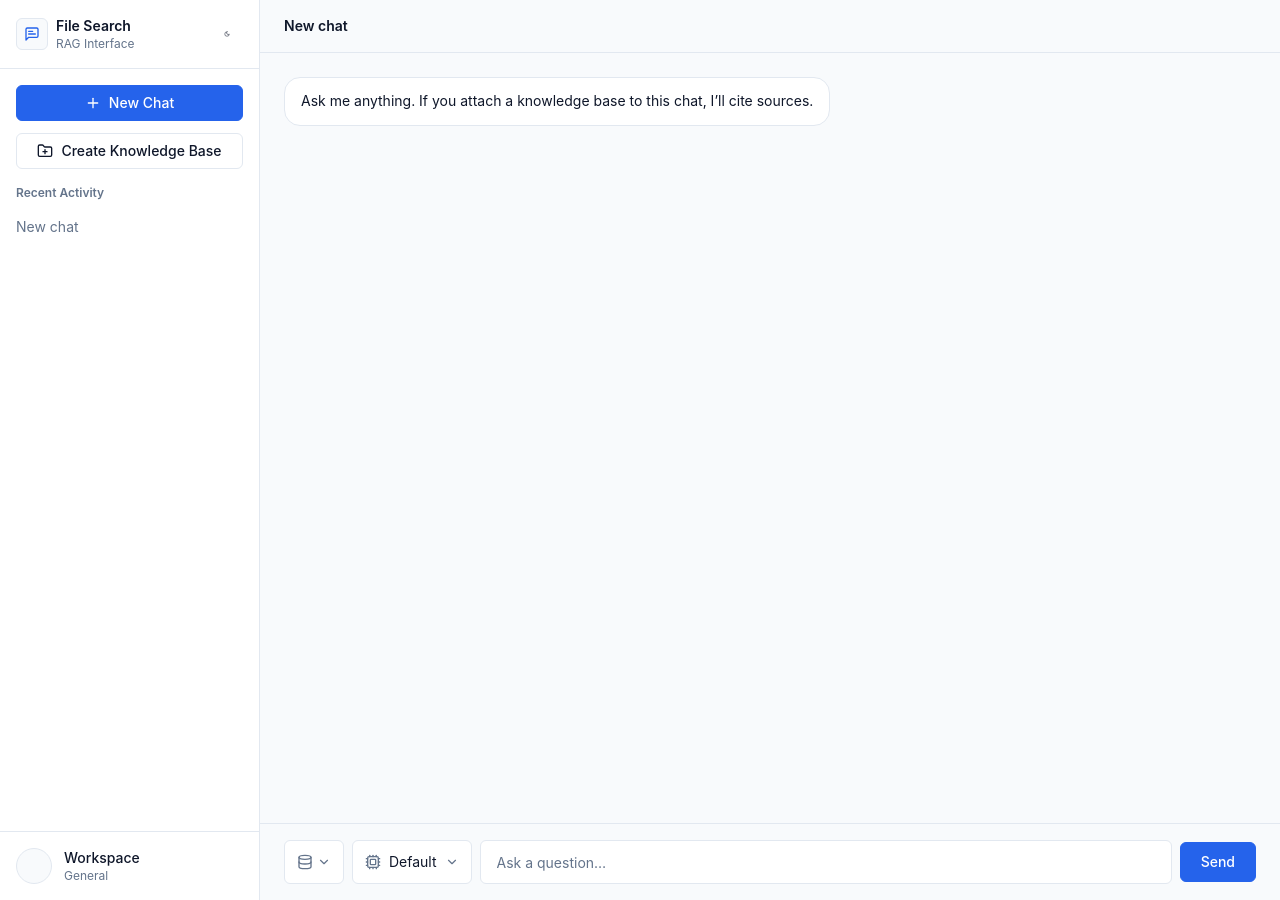
frontend component harness › submits chat history and renders a controlled SSE response
The width and height of the screenshot is (1280, 900).
Type "How does the fixture work?" into the field with placeholder "Ask a question…" at (826, 862), box [480, 840, 1172, 884]
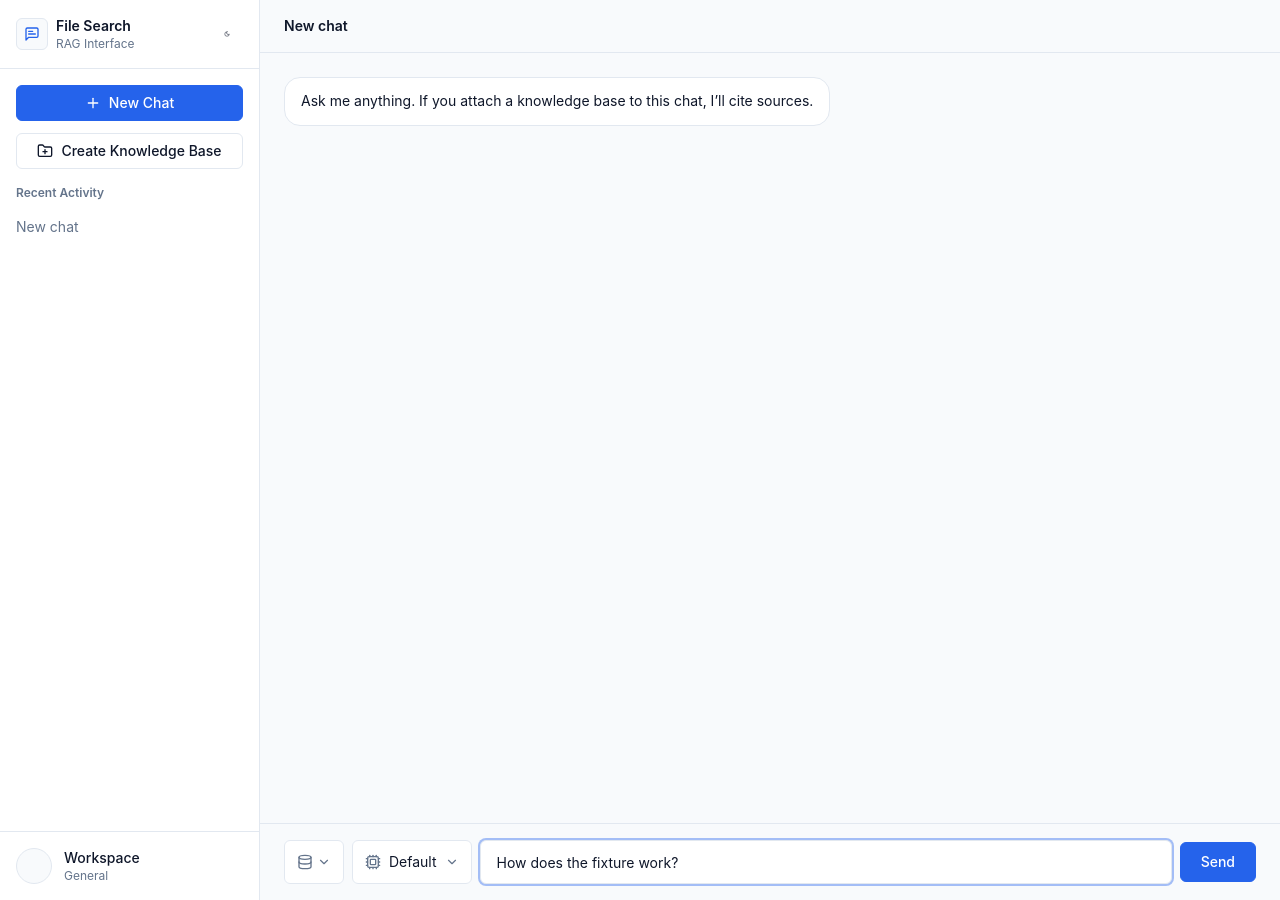
Click the button "Send" at (1218, 862), box [1180, 842, 1256, 882]
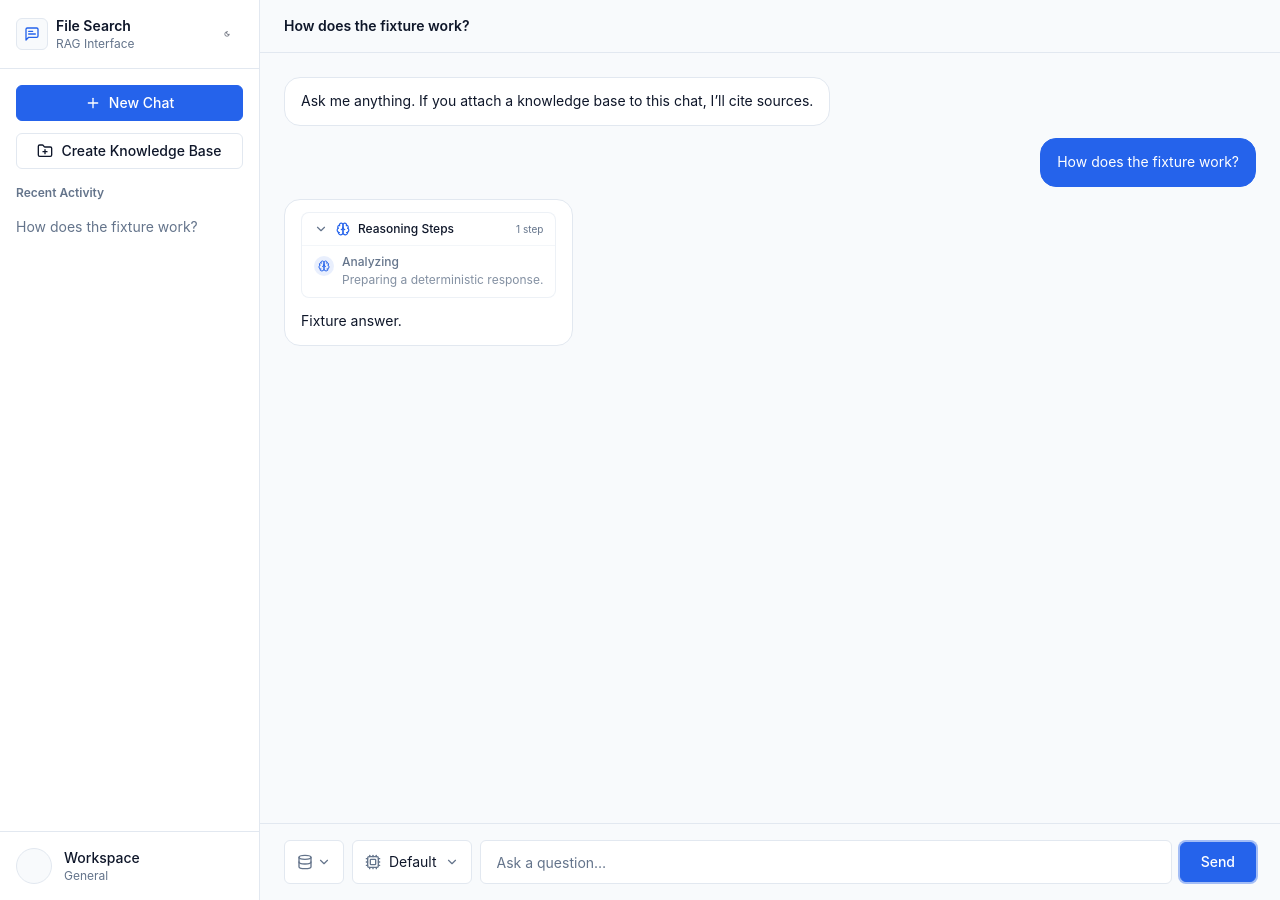
Check: the 2nd text "How does the fixture work?" is shown, box [1057, 153, 1239, 170]
Check: the text "Preparing a deterministic response." is shown, box [342, 270, 543, 289]
Check: the text "Fixture answer." is shown, box [301, 312, 402, 329]
